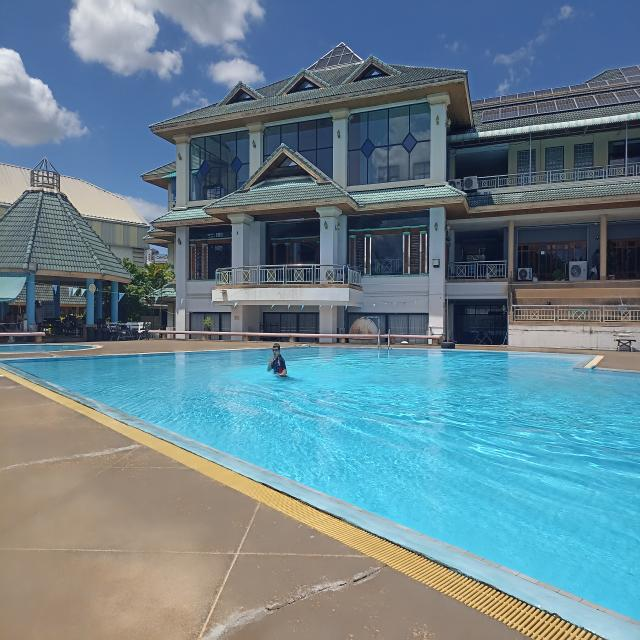Swimming: (264, 334, 291, 381)
